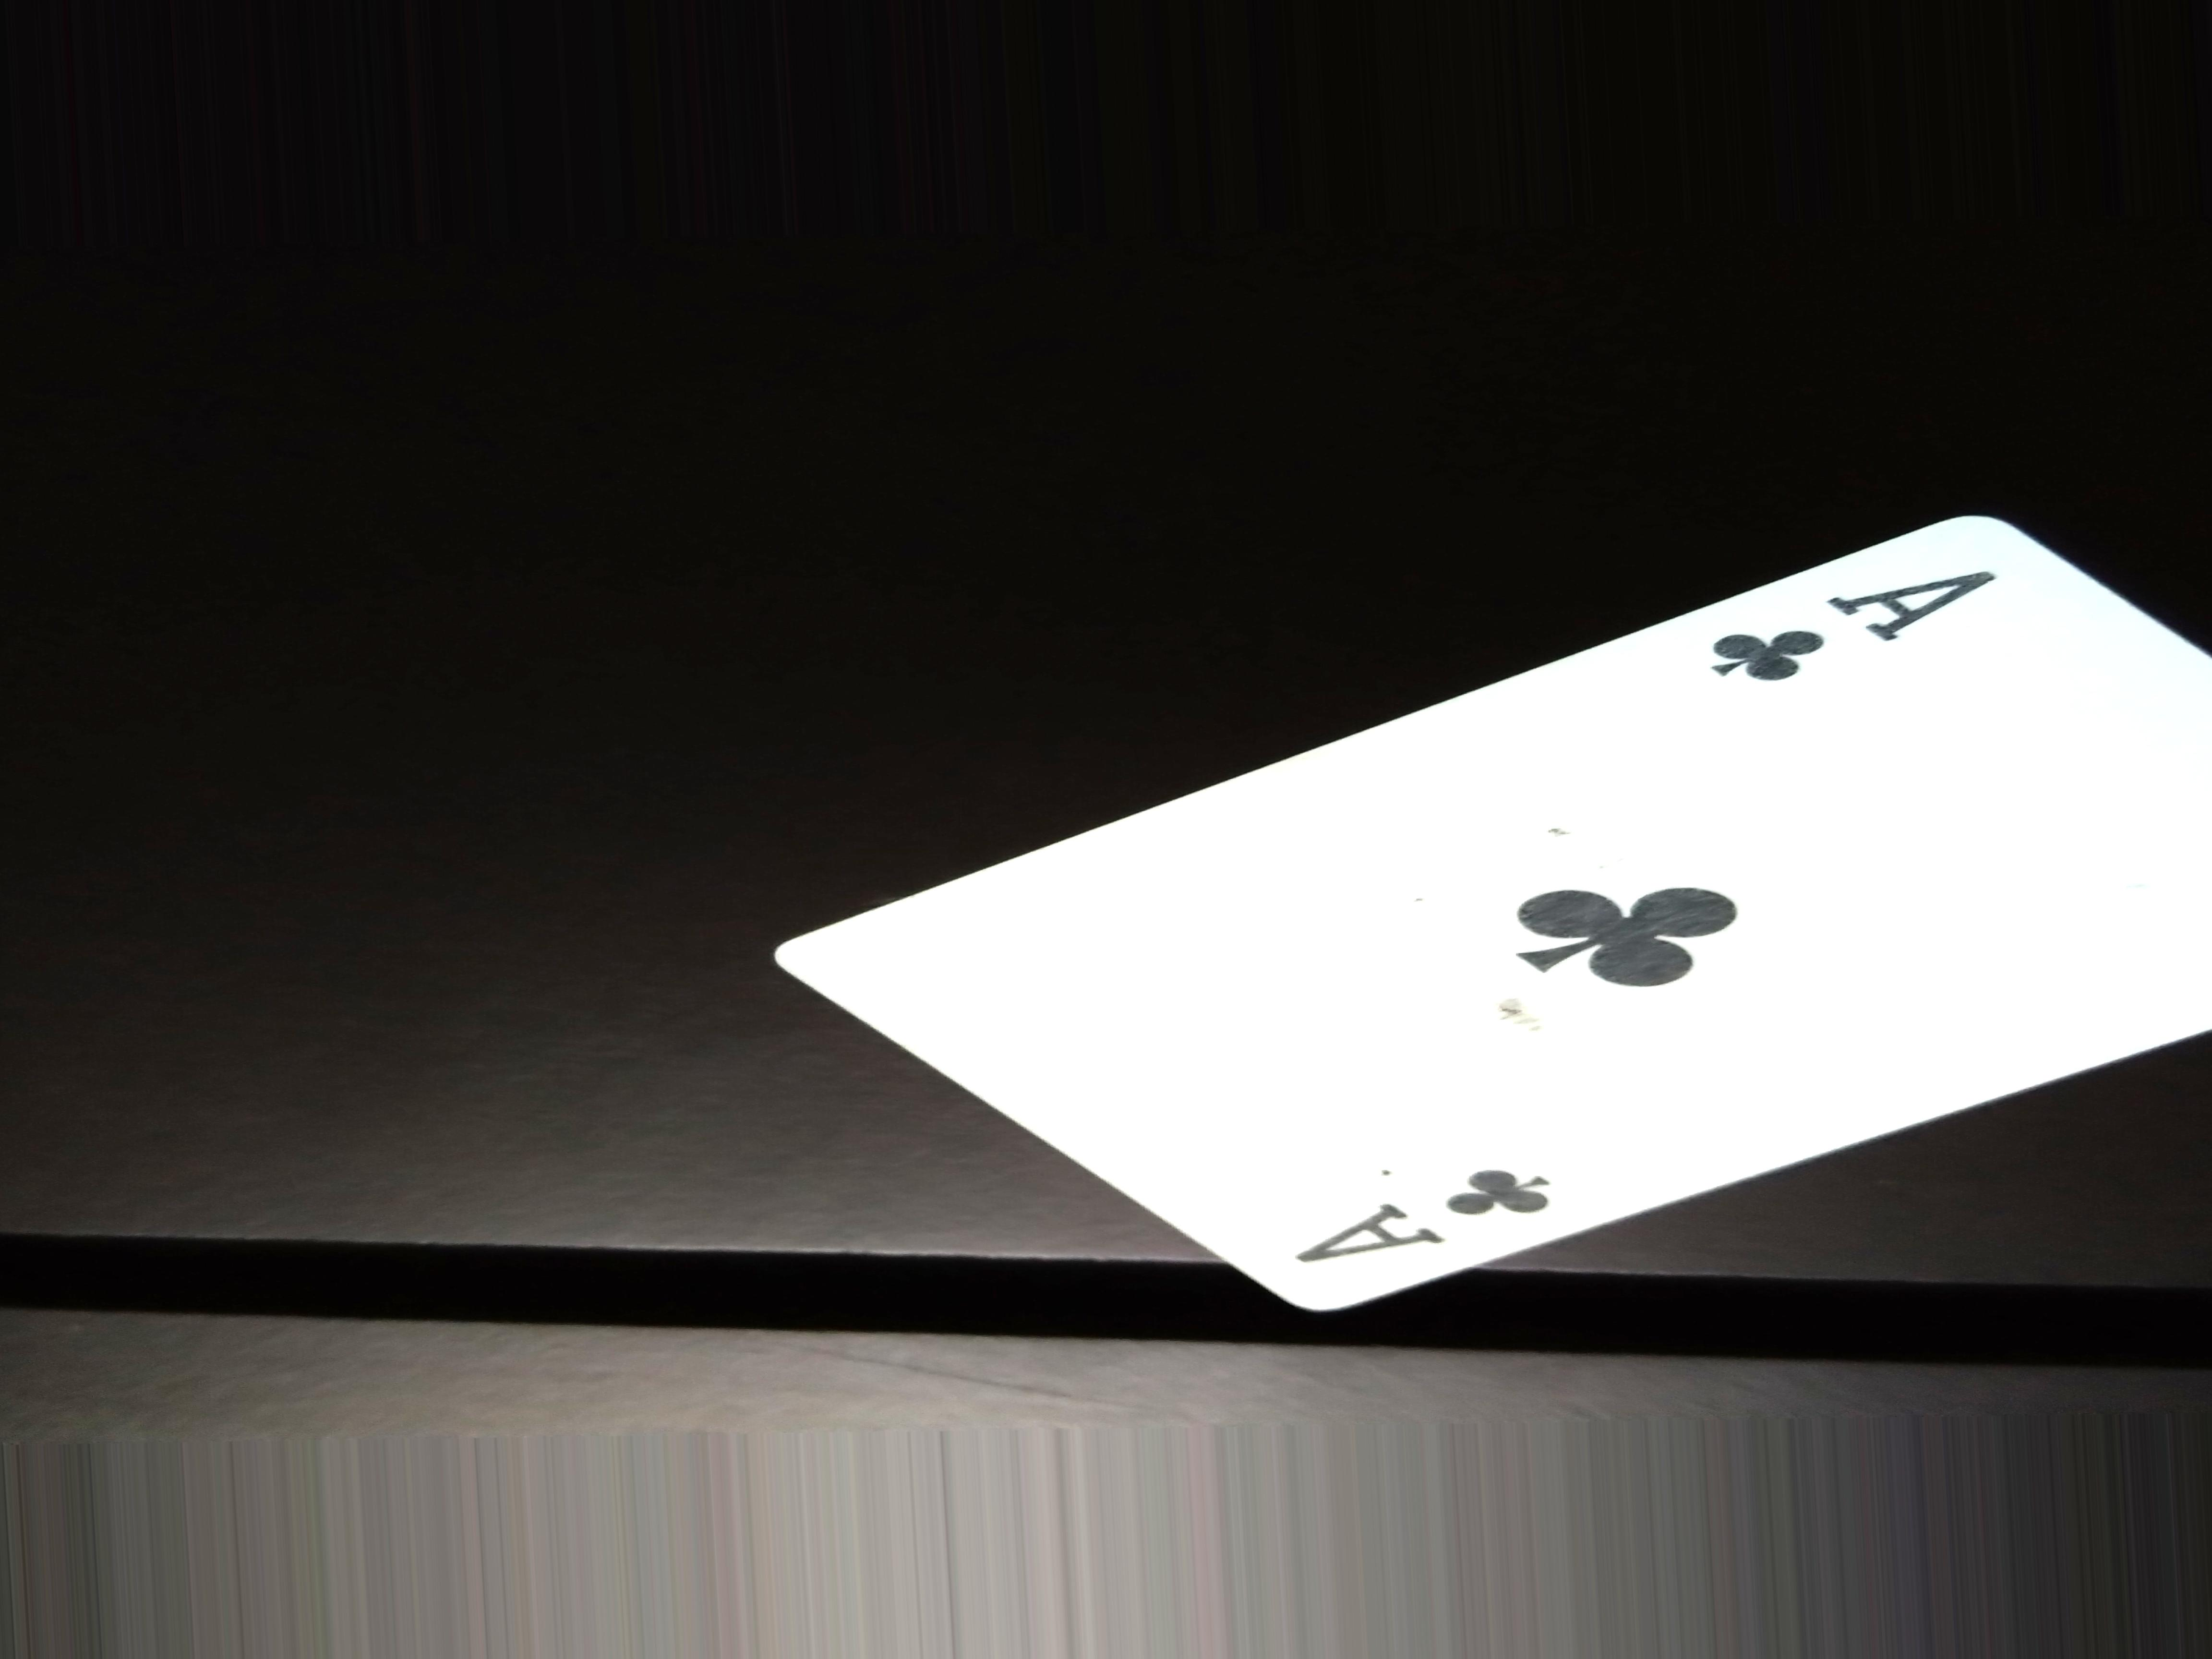AC: (1695, 554, 2006, 699)
